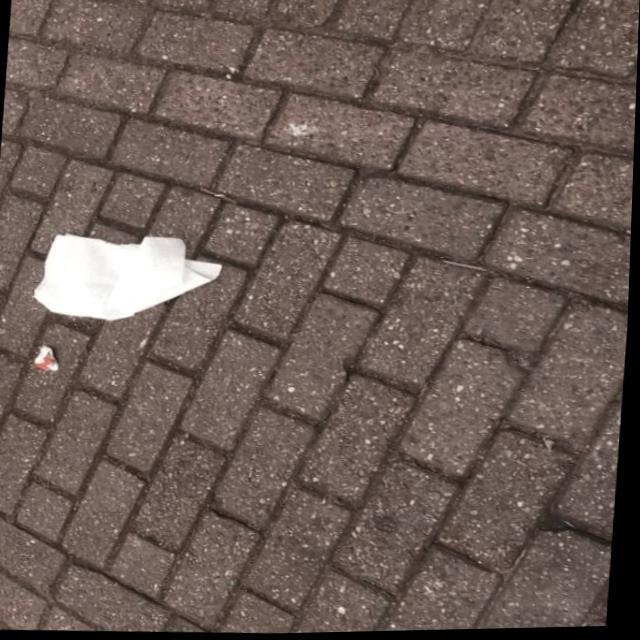Paper: (33, 227, 227, 327)
Plastic: (35, 342, 65, 372)
